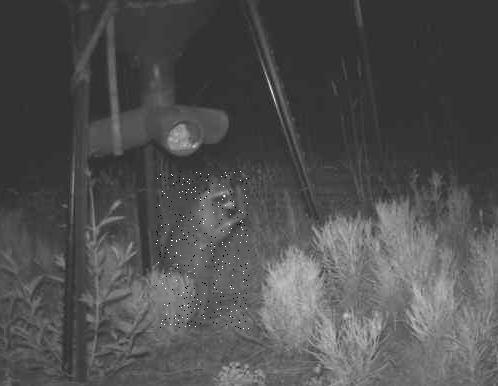Raccoon: (156, 172, 249, 330)
